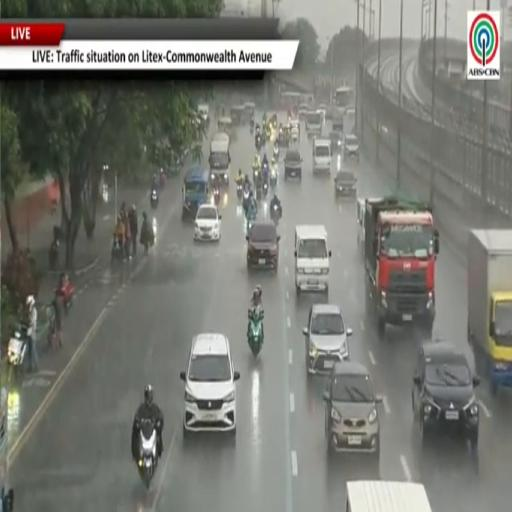bus: (346, 480, 431, 511), (0, 387, 13, 511), (333, 87, 354, 108), (280, 91, 300, 109)
car: (412, 341, 479, 449), (180, 333, 239, 439), (324, 361, 382, 458), (303, 304, 352, 375), (246, 219, 280, 270), (194, 204, 221, 241), (313, 138, 331, 173), (335, 169, 356, 197), (284, 148, 302, 180), (344, 134, 359, 161), (328, 130, 344, 154), (332, 111, 344, 133), (289, 120, 300, 142), (325, 104, 337, 120), (298, 103, 309, 120), (317, 104, 327, 121)
motorcycle: (137, 420, 157, 488), (8, 323, 28, 382), (248, 308, 263, 357), (58, 280, 74, 312), (111, 237, 125, 262), (49, 238, 59, 270), (246, 207, 257, 232), (270, 203, 281, 226), (270, 168, 278, 190), (212, 185, 220, 206), (150, 189, 158, 209), (256, 180, 263, 201), (255, 134, 263, 151), (253, 168, 260, 186), (273, 143, 279, 161), (262, 181, 268, 198), (237, 184, 243, 200), (243, 188, 249, 204), (250, 120, 254, 135)
truck: (364, 196, 439, 338), (468, 230, 511, 394)
